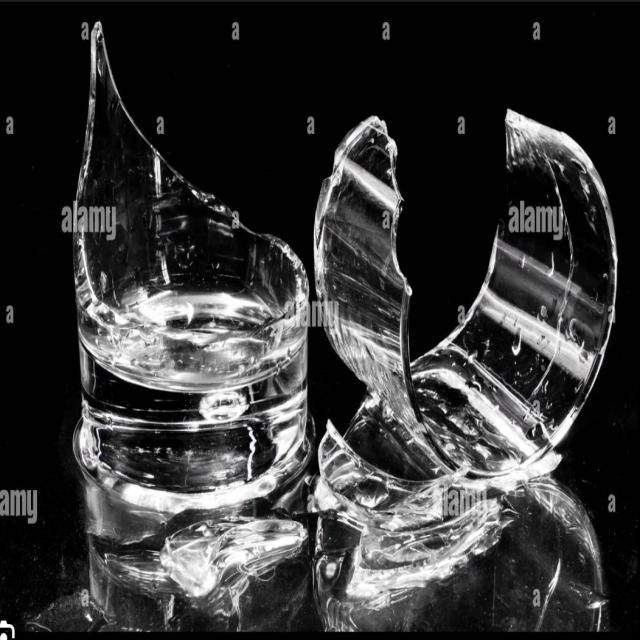PecahanKaca: (312, 105, 618, 527), (68, 19, 312, 510)
